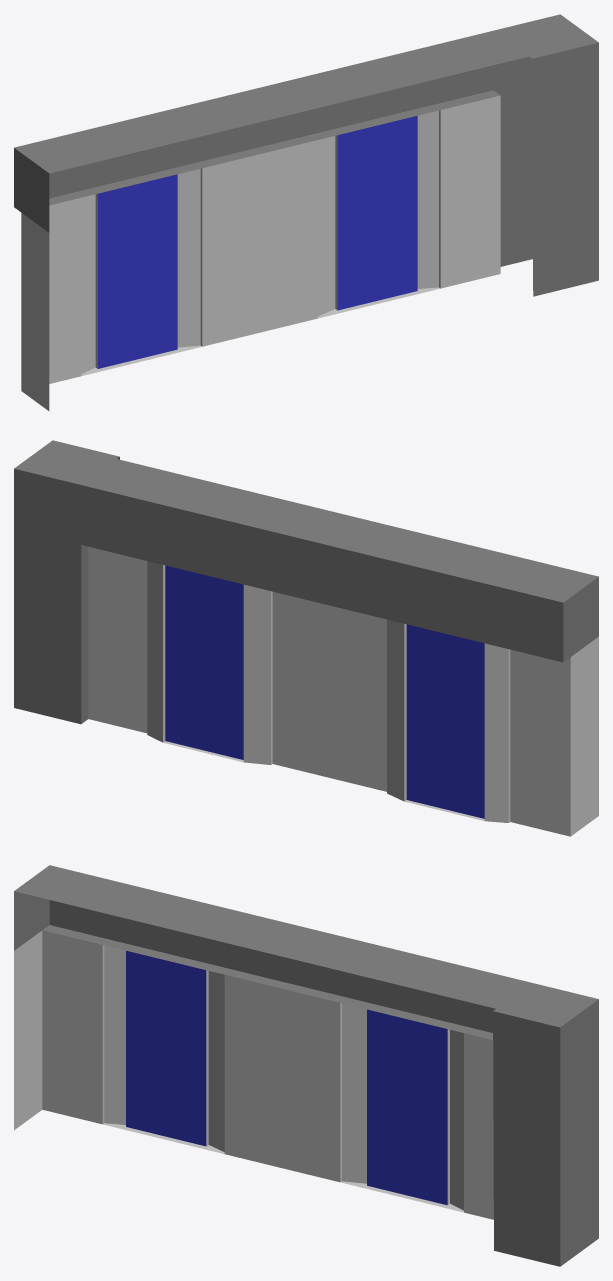
File: WindowedFacadeNoBaseA.fbx
3 views of the same model, one above another, from view 1: azimuth 30°, elevation 25°; view 2: azimuth 150°, elevation 25°; view 3: azimuth 330°, elevation 25° (orthographic).
Visible parts, largest first — view 1: Cube; view 2: Cube; view 3: Cube.
Part boxes in pixels (bbox=[...]): Cube: bbox=[14, 14, 598, 410]; Cube: bbox=[14, 440, 598, 836]; Cube: bbox=[14, 865, 598, 1266].
Size of the model in its own units: 961 by 400 by 117.
